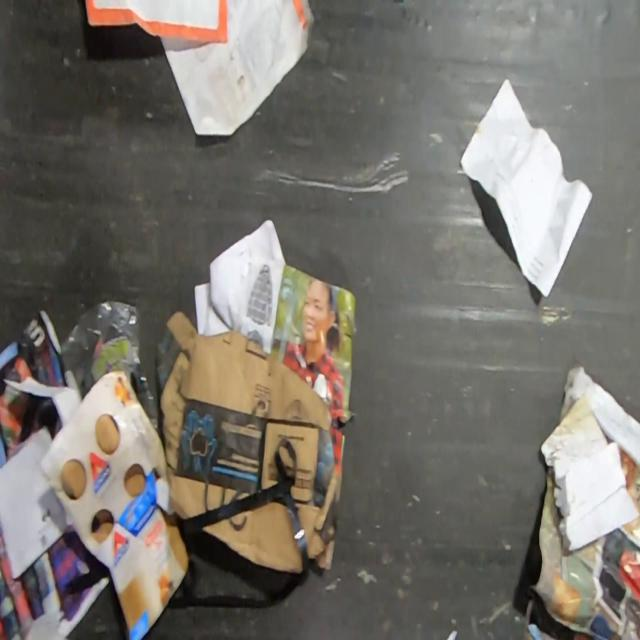cardboard: (155, 308, 341, 572), (39, 368, 190, 640), (202, 502, 302, 574)
soft_plastic: (167, 437, 311, 610), (59, 298, 159, 431)
